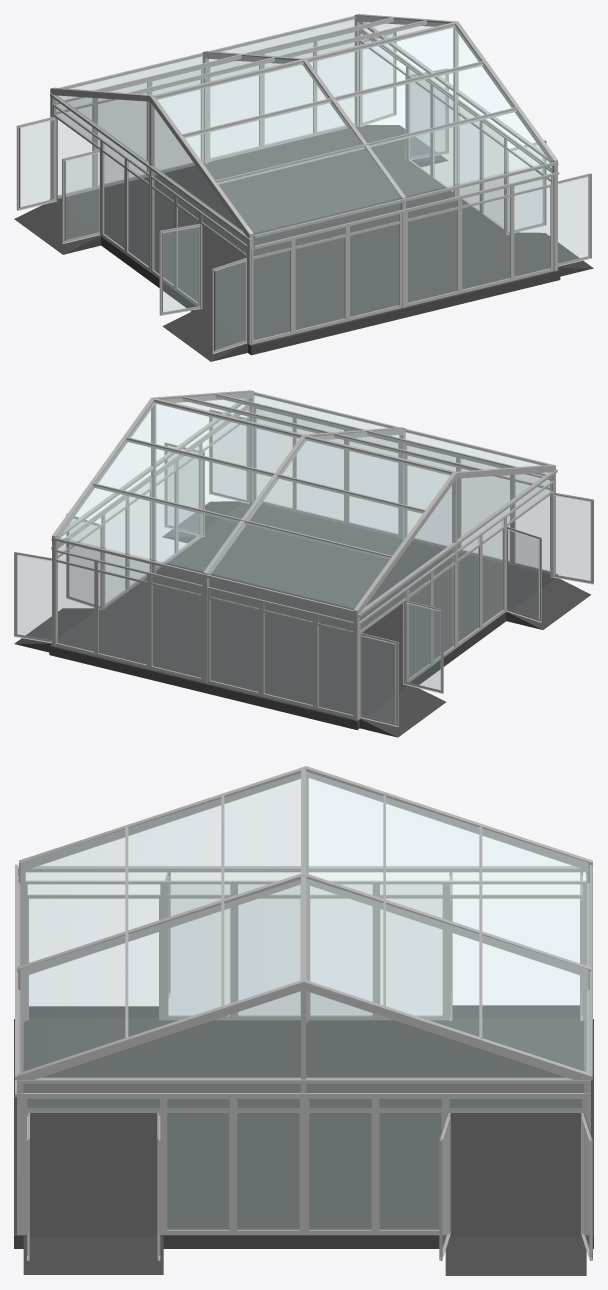
Rendered from TensileStructure.glb.
The picture shows the model from 3 angles, top to bottom: view 1: azimuth 30°, elevation 25°; view 2: azimuth 150°, elevation 25°; view 3: azimuth 270°, elevation 25°; orthographic projection. The views are drawn at different scales.
Visible parts, largest first — view 1: Tensile_Structure; view 2: Tensile_Structure; view 3: Tensile_Structure.
Boxes of the visible parts, x1,y1,x2,y2 form: Tensile_Structure: (14,14,593,361); Tensile_Structure: (14,390,593,737); Tensile_Structure: (14,766,593,1275).
Bounding box in the file's own units: 110 × 50.66 × 100.
Materials: 3 (1 with a texture image).
